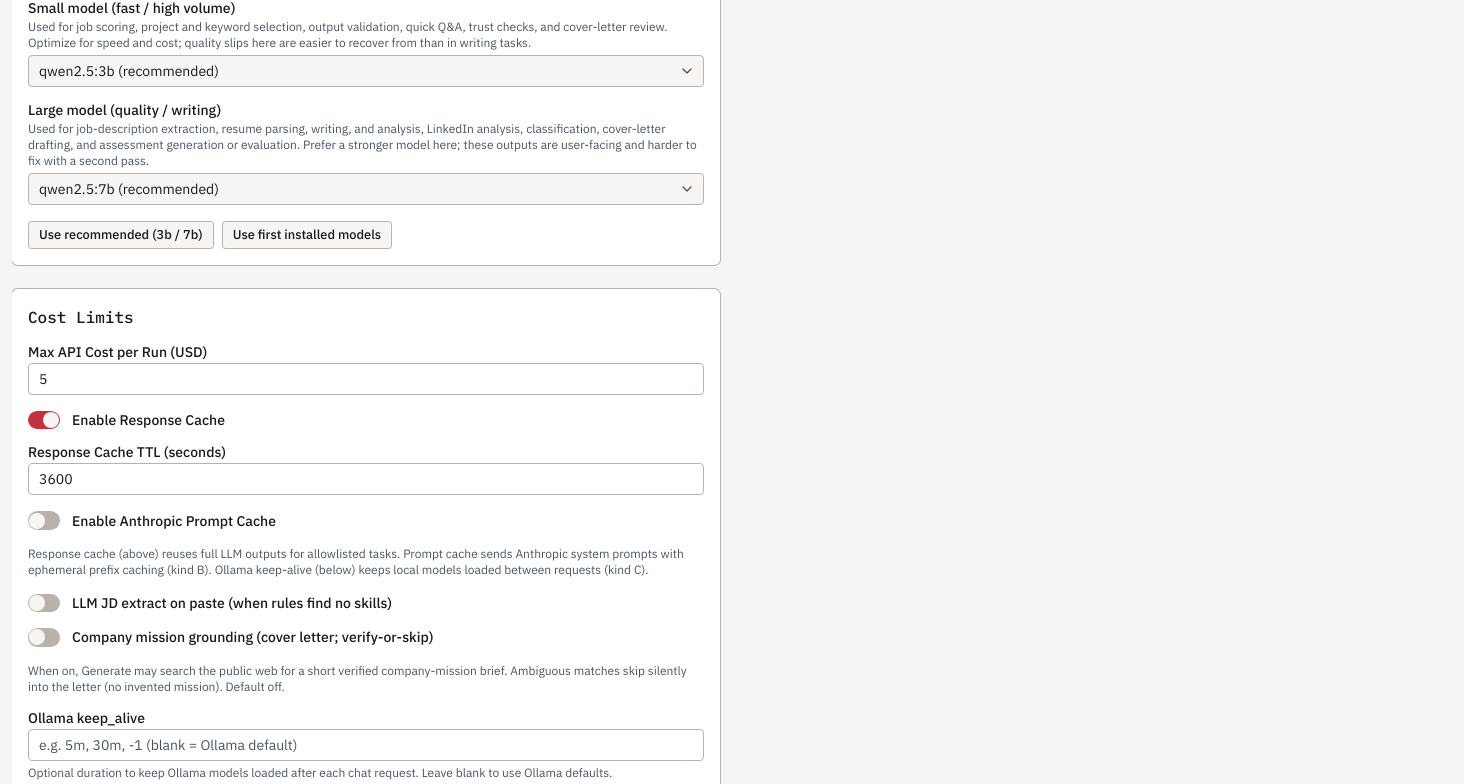
it: Settings remove saved API key › shows values returned by a successful save
The width and height of the screenshot is (1464, 784).
(page scrolled)
Replace the text in the number field labelled "Max API Cost per Run (USD)" with "19" at (366, 379), box 28,363 -> 704,395
(page scrolled)
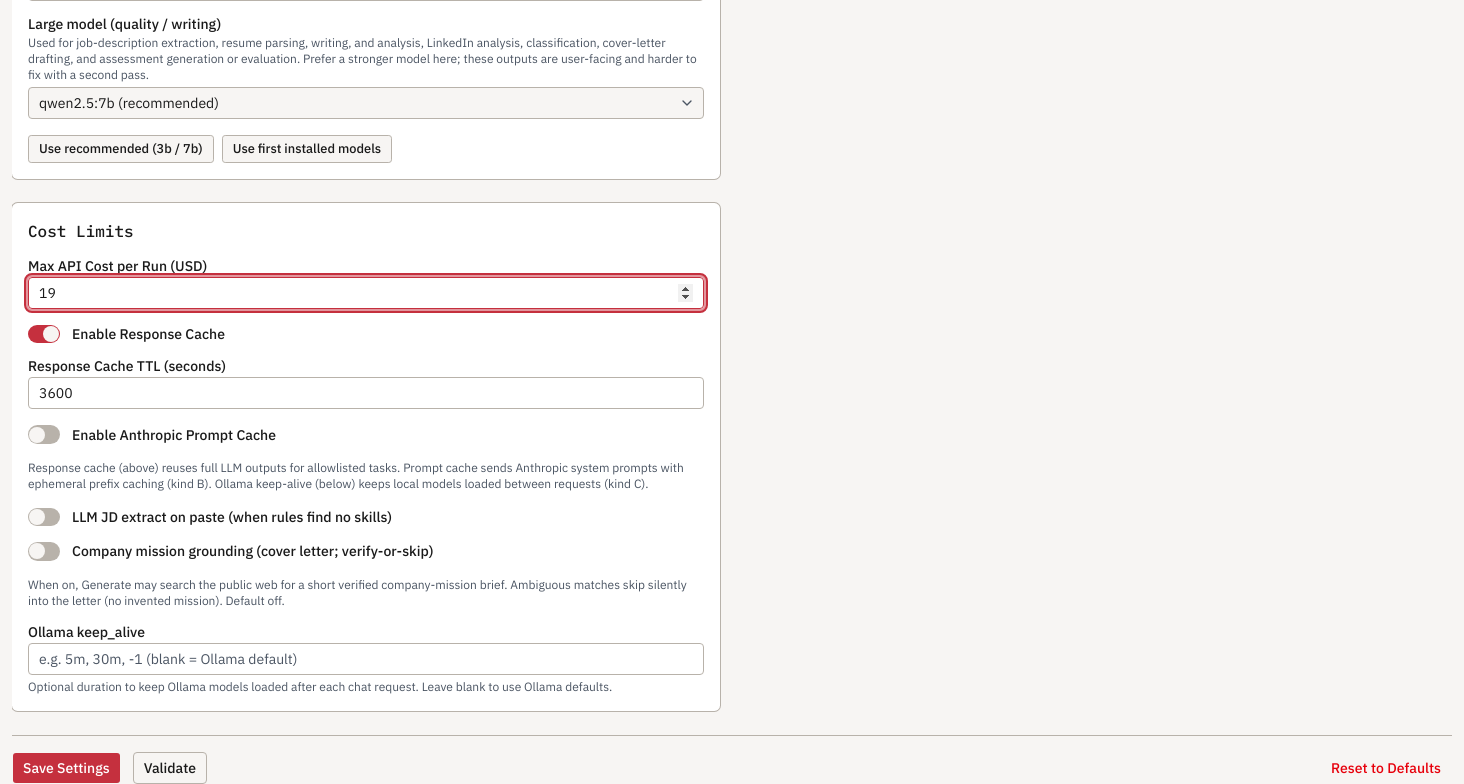
Click the button "Save Settings" at (66, 768), box 12,752 -> 121,783
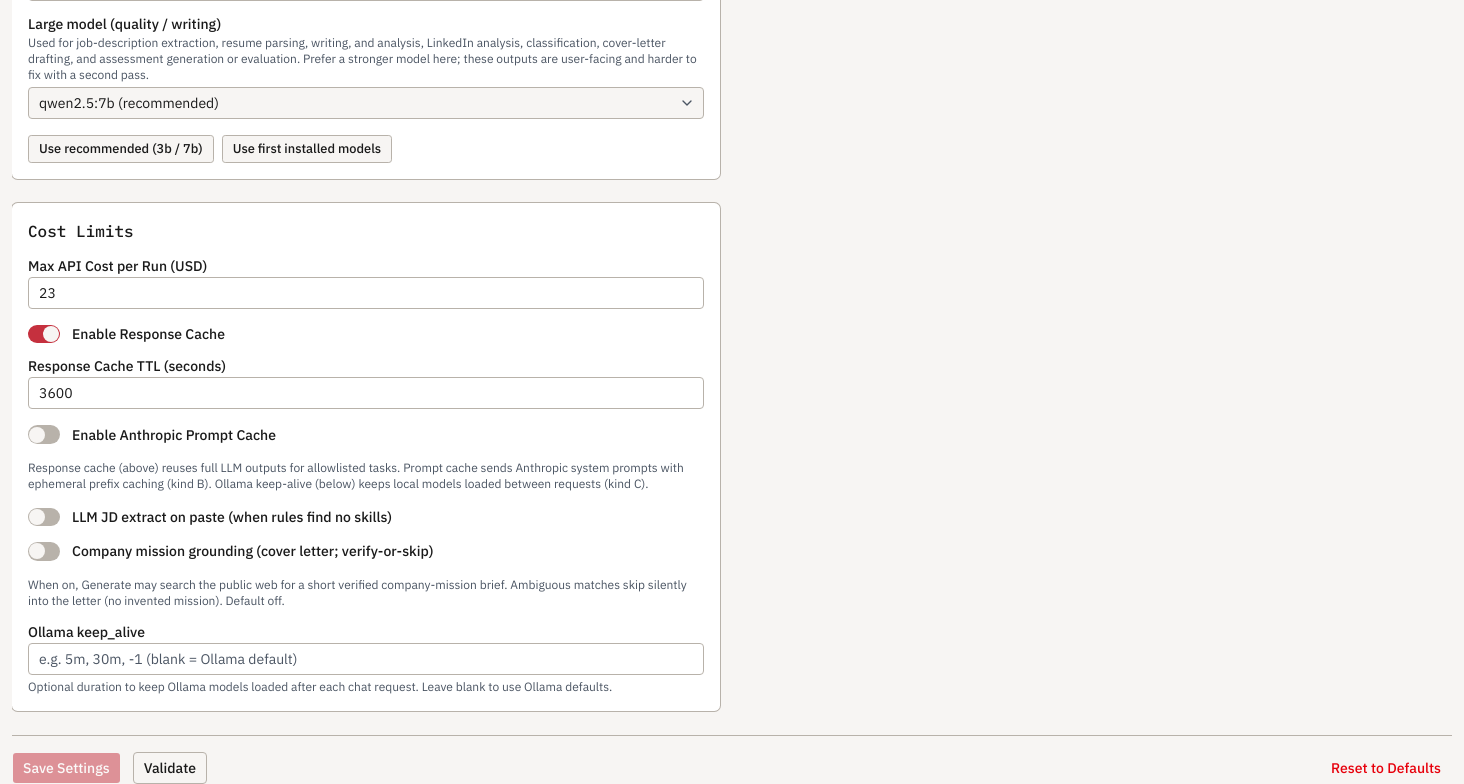
Check: the number field labelled "Max API Cost per Run (USD)" holds "23", box 28,277 -> 704,309
